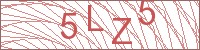5: (137, 1, 159, 26), (60, 12, 78, 40)
L: (86, 4, 105, 32)
Z: (110, 17, 134, 45)
